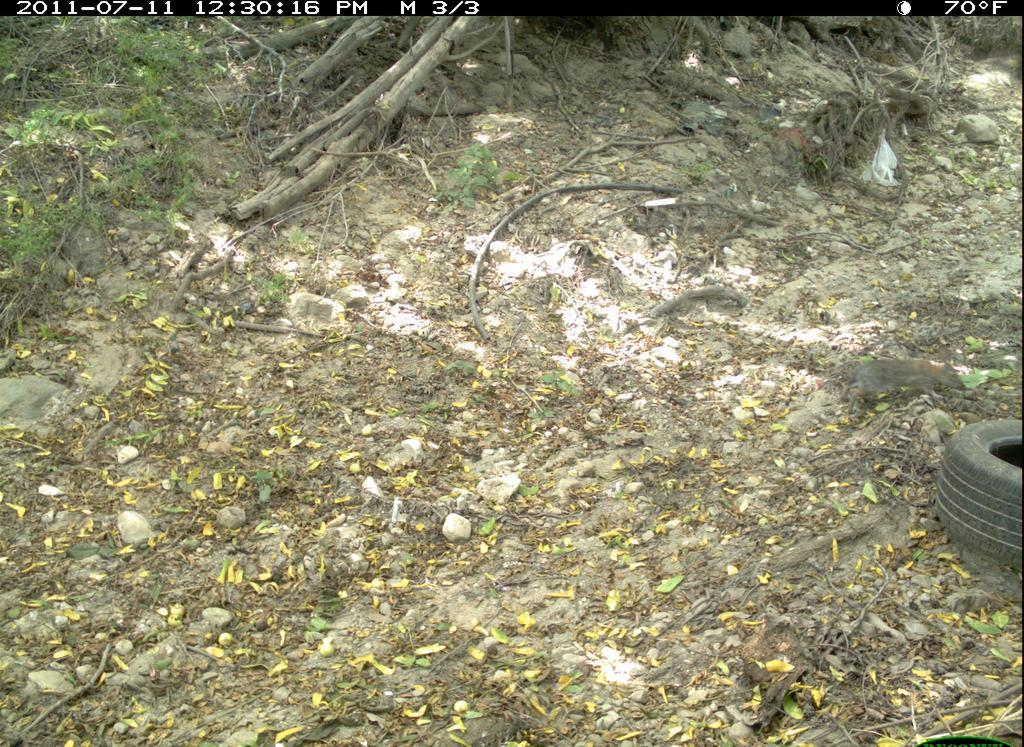rabbit: (836, 351, 977, 425)
